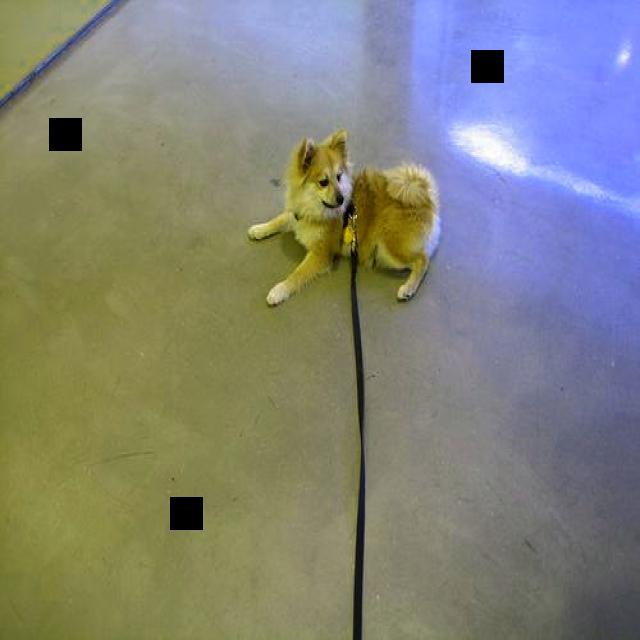adult_dog: (245, 125, 441, 308)
